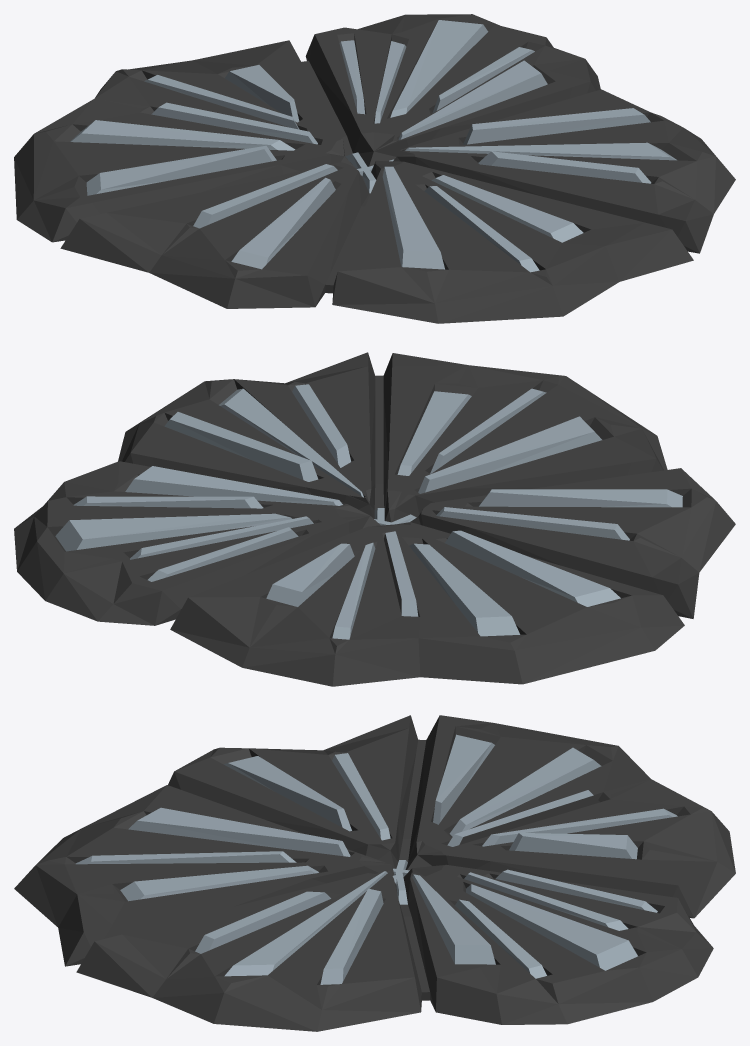
The model's file is SM_Titanium_Node.fbx.
The picture shows the model from 3 angles, top to bottom: view 1: azimuth 30°, elevation 25°; view 2: azimuth 150°, elevation 25°; view 3: azimuth 270°, elevation 25°; orthographic projection. The views are drawn at different scales.
Parts seen in each view (by area): view 1: SM_Titanium_Node_Base; view 2: SM_Titanium_Node_Base; view 3: SM_Titanium_Node_Base.
Part boxes in pixels (left/top/right/bottom): SM_Titanium_Node_Base: left=14, top=14, right=735, bottom=323; SM_Titanium_Node_Base: left=14, top=352, right=735, bottom=686; SM_Titanium_Node_Base: left=14, top=715, right=735, bottom=1031.
Size of the model in its own units: 192 by 12.59 by 196.
